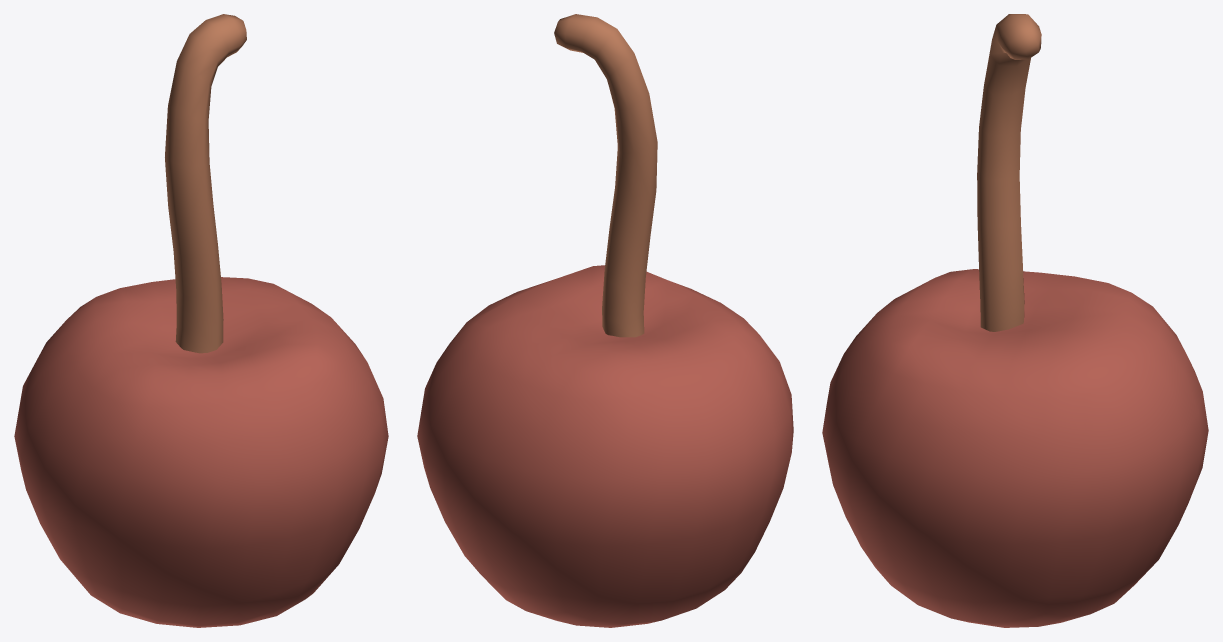
File: Cherry_01.dae
3 renders of one model, left to right at view 1: azimuth 30°, elevation 25°; view 2: azimuth 150°, elevation 25°; view 3: azimuth 270°, elevation 25°, orthographic. The views are drawn at different scales.
Parts seen in each view (by area): view 1: Cherry_01_LOD0; view 2: Cherry_01_LOD0; view 3: Cherry_01_LOD0.
Part boxes in pixels (bbox=[...]): Cherry_01_LOD0: bbox=[14, 14, 388, 627]; Cherry_01_LOD0: bbox=[417, 14, 793, 627]; Cherry_01_LOD0: bbox=[822, 14, 1208, 627].
Size of what is drawn, in the model's own units: 2.71 by 2.71 by 4.54.
